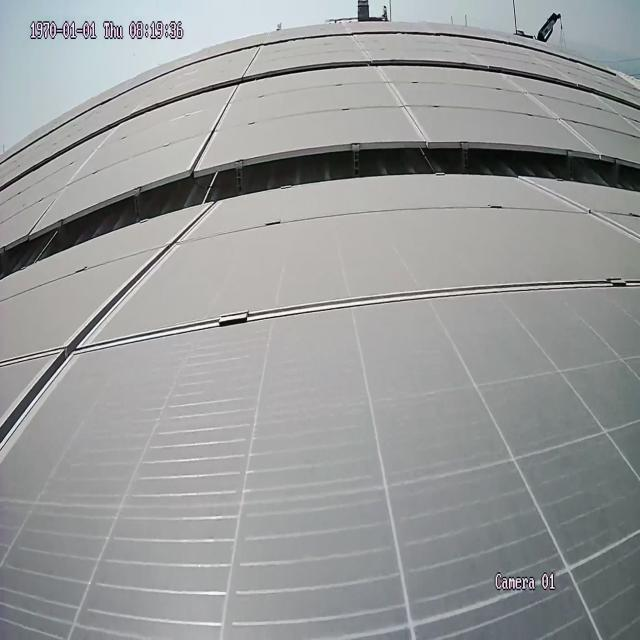interior panel: (2, 206, 624, 461), (501, 77, 604, 148), (376, 73, 431, 133), (190, 94, 239, 159)
outher panel: (2, 144, 638, 282)
